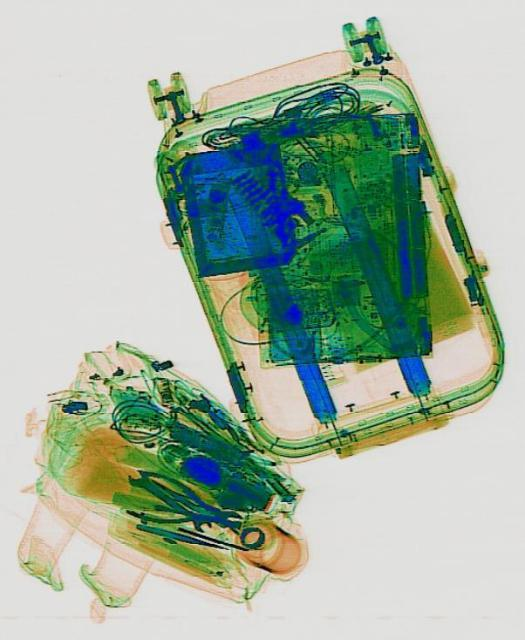Pliers: (121, 462, 245, 548)
Wrench: (125, 464, 214, 538)
